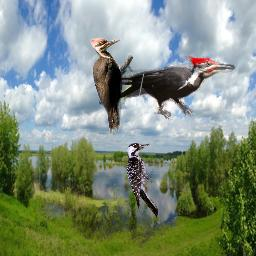Woodpecker: (99, 56, 235, 122), (90, 38, 133, 135), (126, 143, 158, 218)
